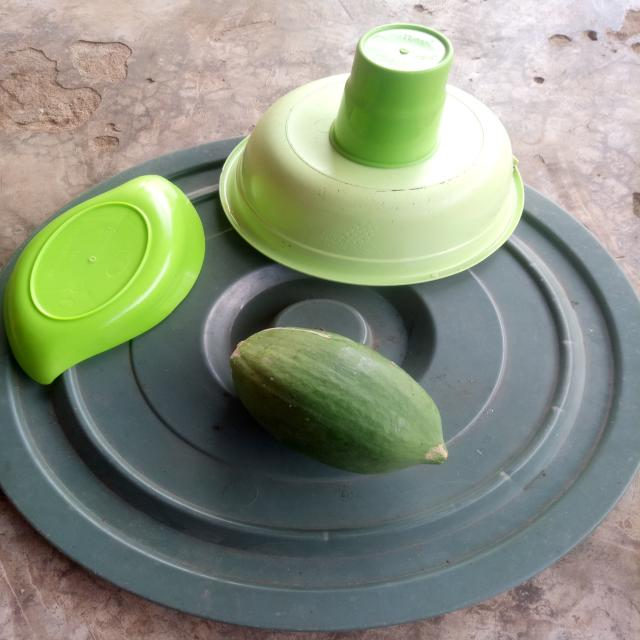Pepaya unrippen: (215, 324, 453, 474)
